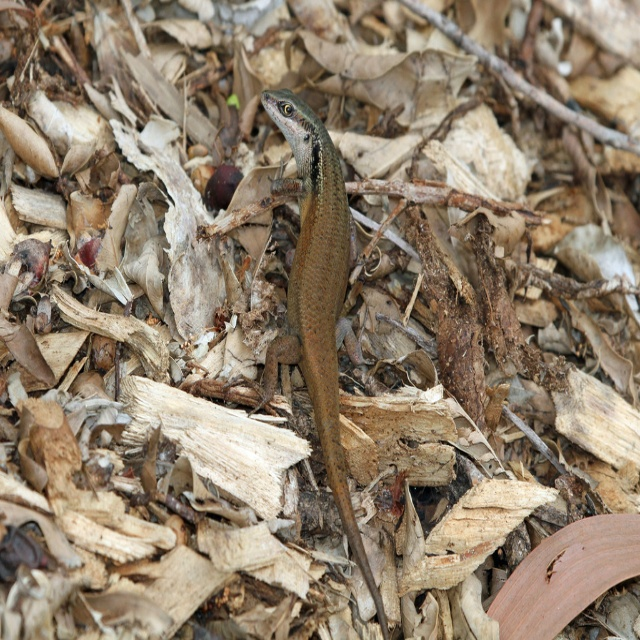Lizard: (250, 72, 366, 556)
